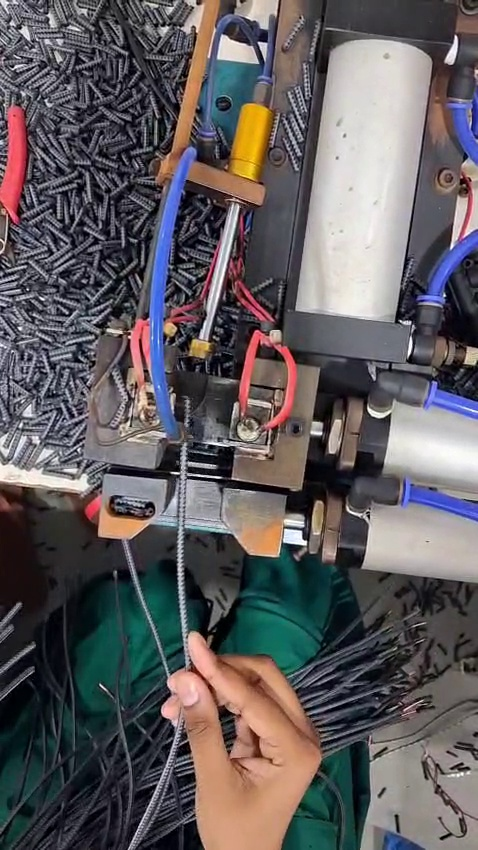intact_wire: (156, 388, 223, 493)
machine: (69, 301, 333, 524)
